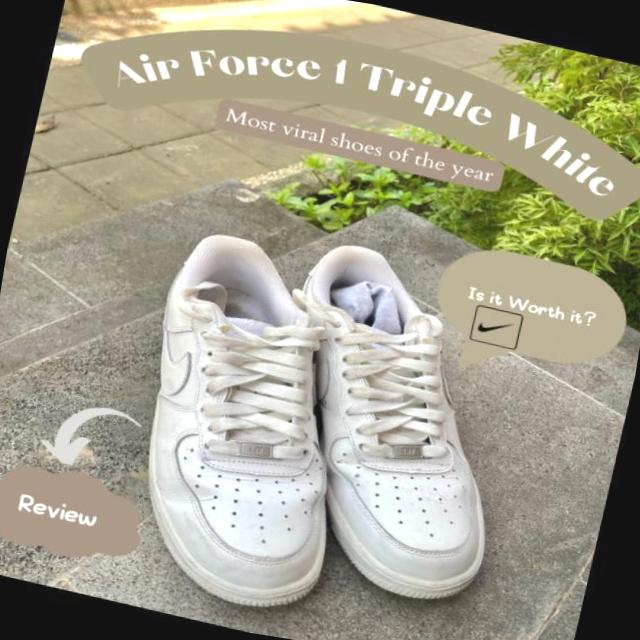nike_original_airforce: (95, 217, 396, 630), (238, 234, 552, 620)
